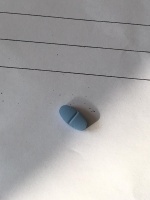Majezik: (58, 104, 89, 132)
